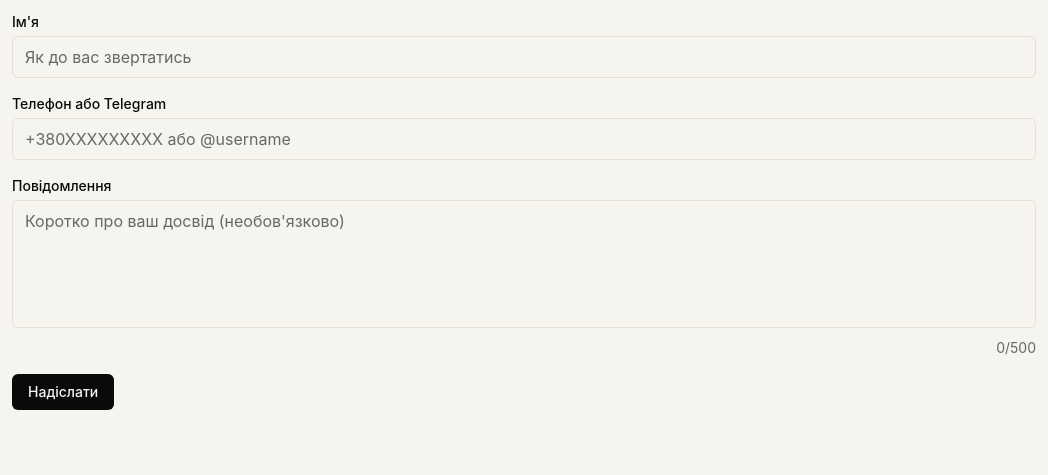
ApplicationForm › re-validates on blur after the error was cleared by typing
The image size is (1048, 475).
Click the field labelled "Ім'я" at (524, 57), box [12,36,1036,78]
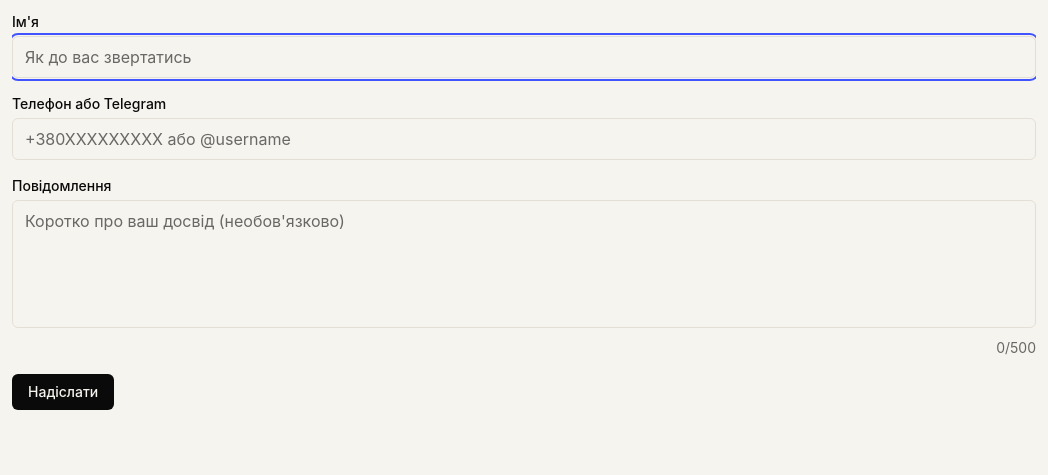
Press Tab
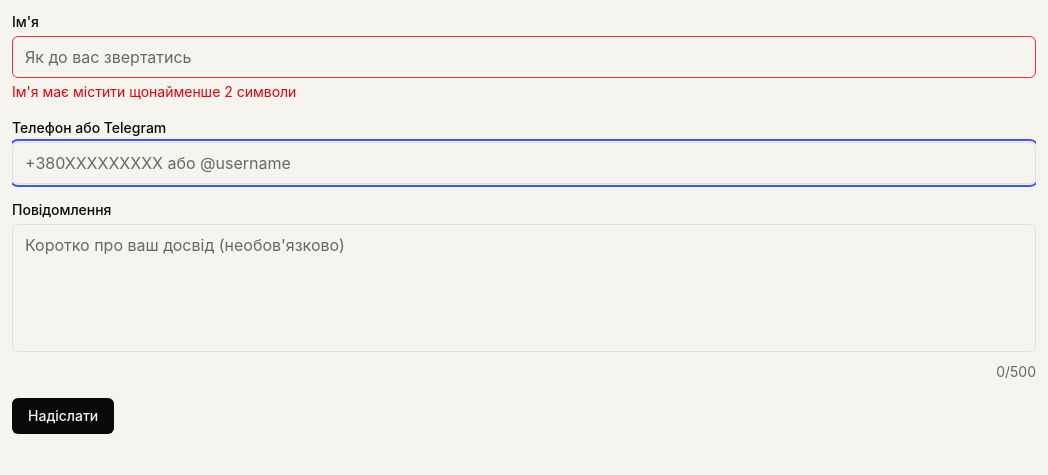
Type "І" into the field labelled "Ім'я" at (524, 57), box [12,36,1036,78]
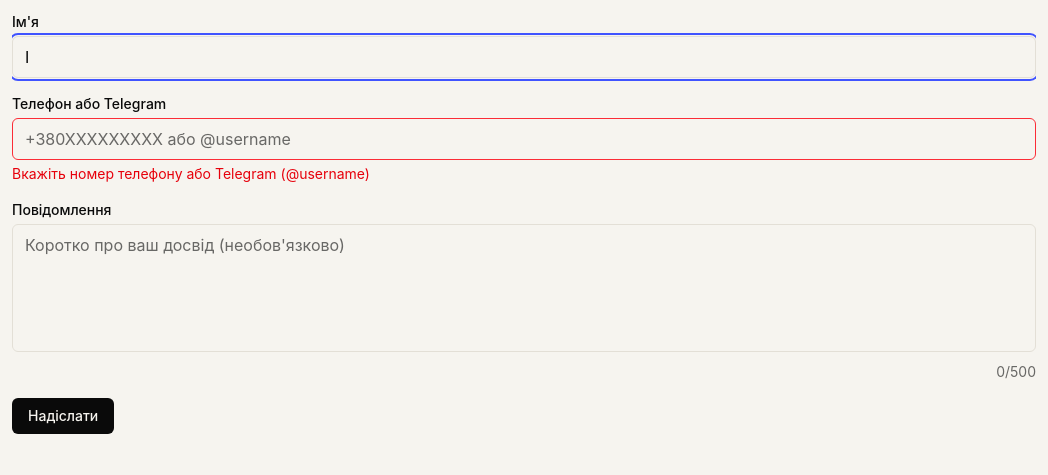
Press Tab
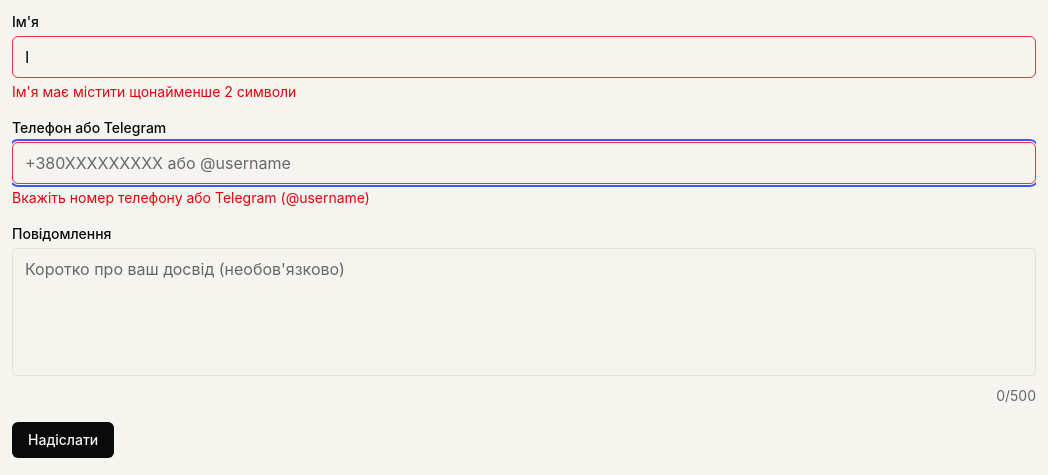
Now the text "Ім'я має містити щонайменше 2 символи" is shown, box [12,82,296,102]
